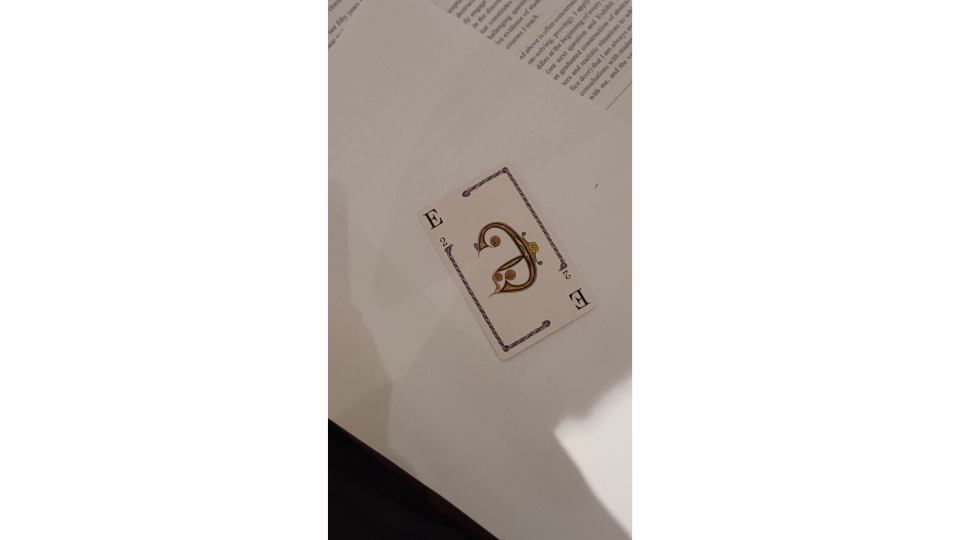E: (415, 159, 604, 363)
